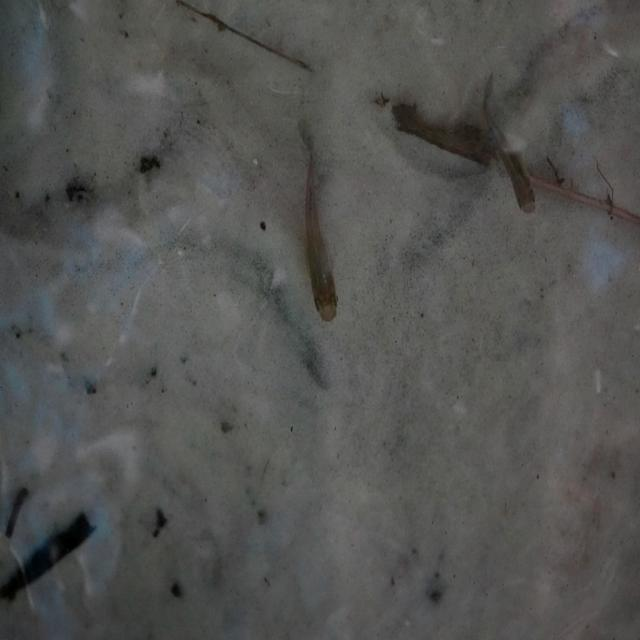Sivrisinek Baligi: (471, 77, 541, 221), (292, 138, 340, 322)
